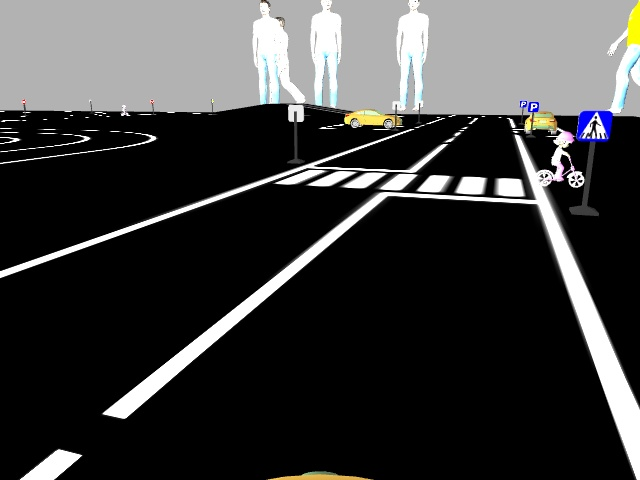Crosswalk: (577, 111, 611, 141)
Parking: (527, 101, 538, 110), (518, 99, 526, 109)
Pedestrian: (533, 130, 585, 189)
